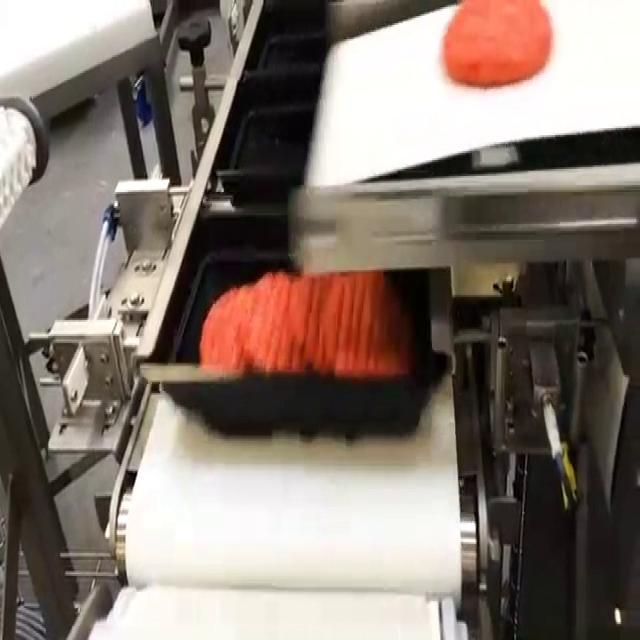4-hamburguer: (199, 272, 416, 375)
